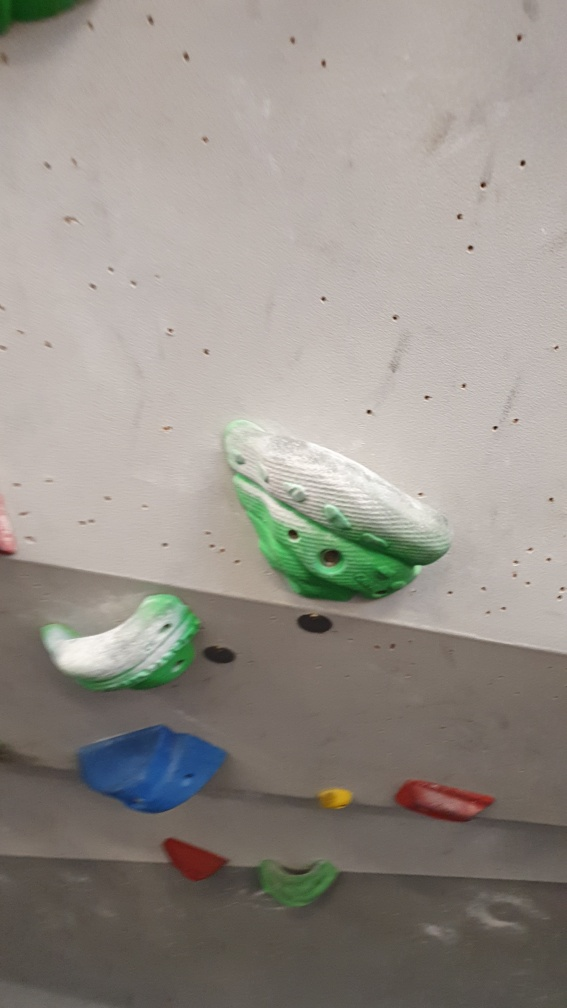Crimp: (396, 777, 496, 825)
Hand Start: (200, 638, 240, 673), (296, 611, 337, 636)
Jug: (216, 411, 453, 605), (37, 590, 203, 698), (252, 854, 345, 909)
Pinch: (75, 723, 227, 813)
